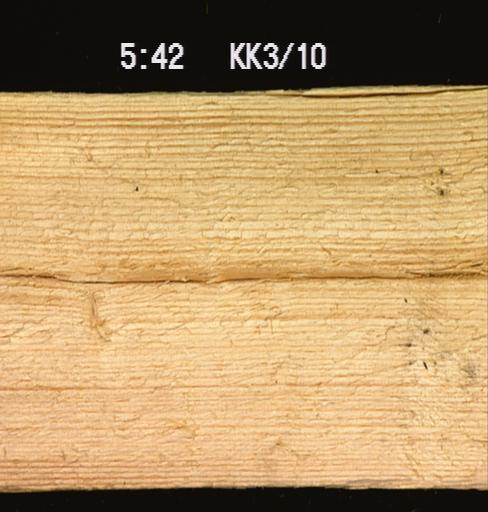small_knot: (85, 294, 114, 341)
split: (213, 268, 487, 282), (0, 270, 208, 284)
